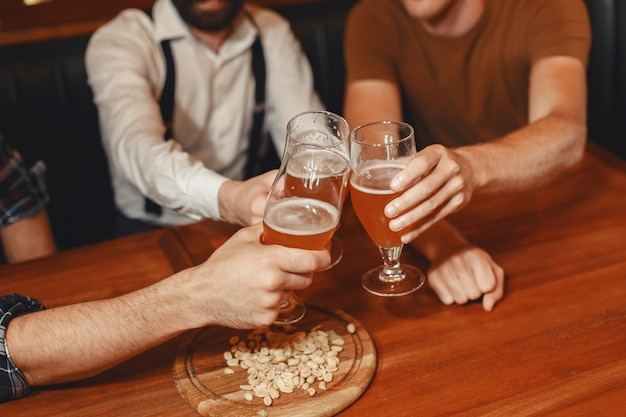alcohol: (261, 145, 350, 322), (347, 120, 429, 296), (279, 109, 350, 271)
